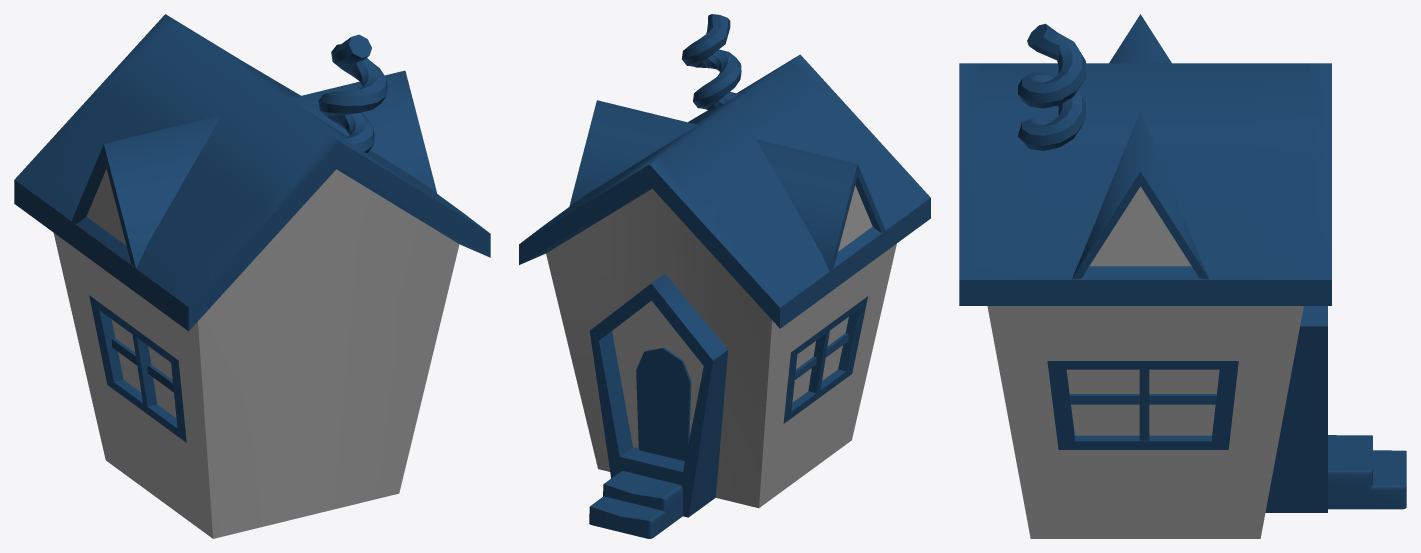
The model's file is house_01.fbx.
3 views of the same model, side by side, from view 1: azimuth 30°, elevation 25°; view 2: azimuth 150°, elevation 25°; view 3: azimuth 270°, elevation 25° (orthographic). The views are drawn at different scales.
Visible parts, largest first — view 1: house_01; view 2: house_01; view 3: house_01.
Part boxes in pixels (<box>): house_01: <box>14,14,490,538</box>; house_01: <box>519,14,930,538</box>; house_01: <box>959,14,1406,538</box>.
Bounding box in the file's own units: 0.9707 × 1.42 × 1.16.
